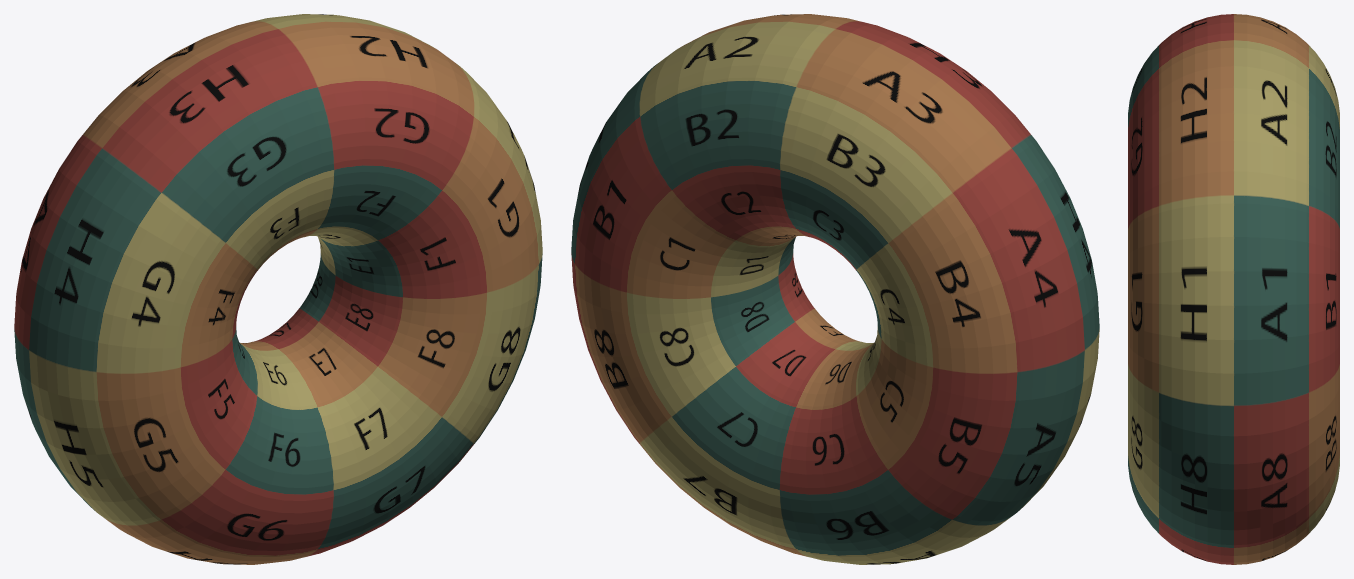
Rendered from texture_torus_R7_r27.glb.
3 views of the same model, side by side, from view 1: azimuth 30°, elevation 25°; view 2: azimuth 150°, elevation 25°; view 3: azimuth 270°, elevation 25° (orthographic). The views are drawn at different scales.
Parts seen in each view (by area): view 1: world; view 2: world; view 3: world.
Boxes of the visible parts, x1,y1,x2,y2 form: world: (14, 14, 542, 564); world: (571, 14, 1099, 564); world: (1128, 14, 1339, 564).
Size of the model in its own units: 23.87 by 23.82 by 9.18.
1 material, 1 textured.
